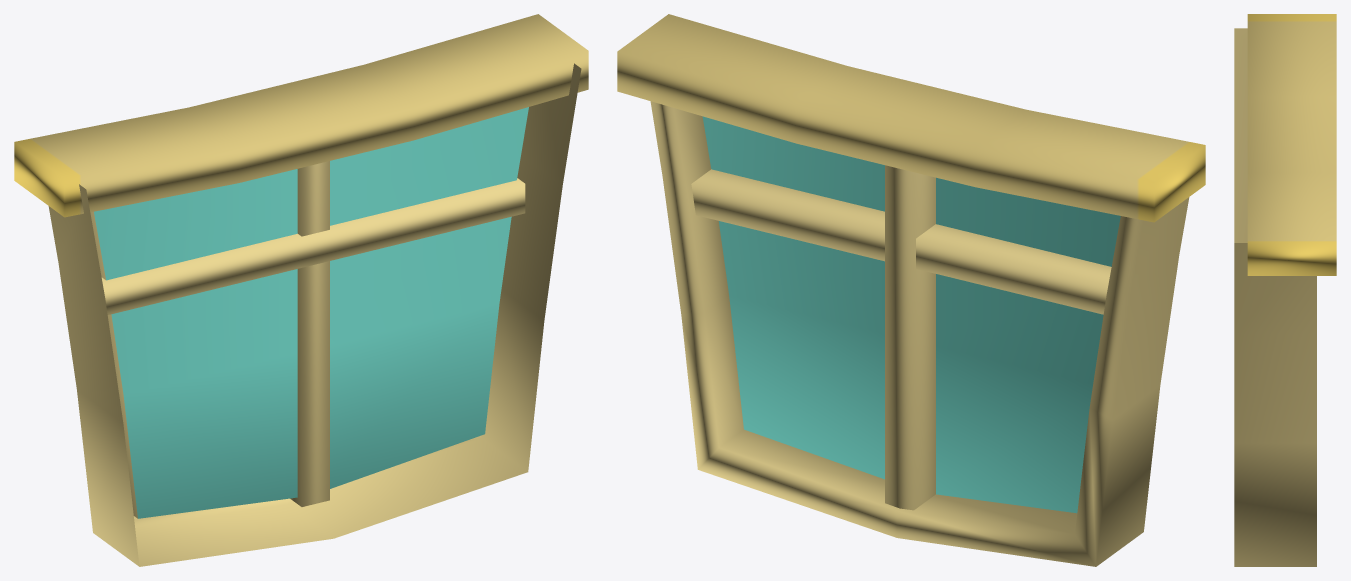
The model's file is Building_C_2.fbx.
The picture shows the model from 3 angles, left to right: view 1: azimuth 30°, elevation 25°; view 2: azimuth 150°, elevation 25°; view 3: azimuth 270°, elevation 25°; orthographic projection. The views are drawn at different scales.
Visible parts, largest first — view 1: Building_C_2; view 2: Building_C_2; view 3: Building_C_2.
Boxes of the visible parts, box(x1,y1,x2,y2) form: Building_C_2: box(14, 14, 588, 566); Building_C_2: box(617, 14, 1205, 566); Building_C_2: box(1234, 14, 1336, 566).
Size of the model in its own units: 140 by 107 by 26.6.
